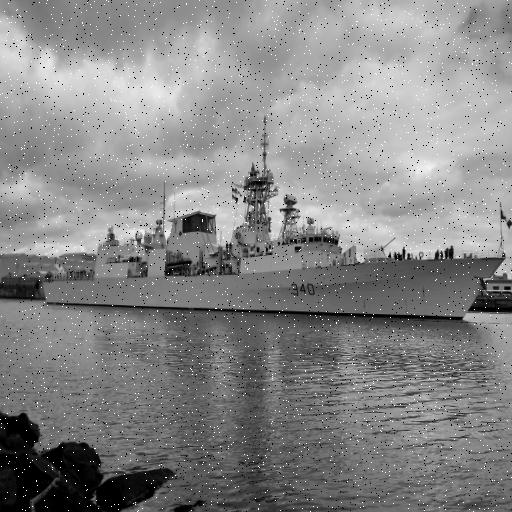Fragata: (41, 112, 511, 318)
